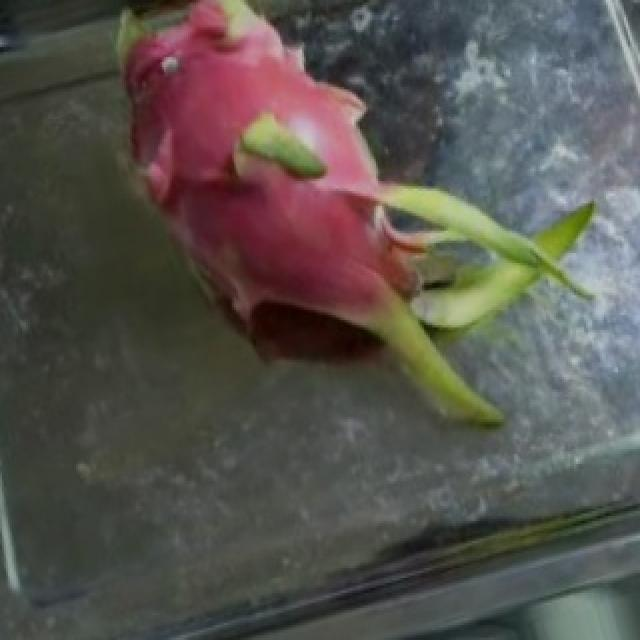fruit: (176, 5, 624, 471)
